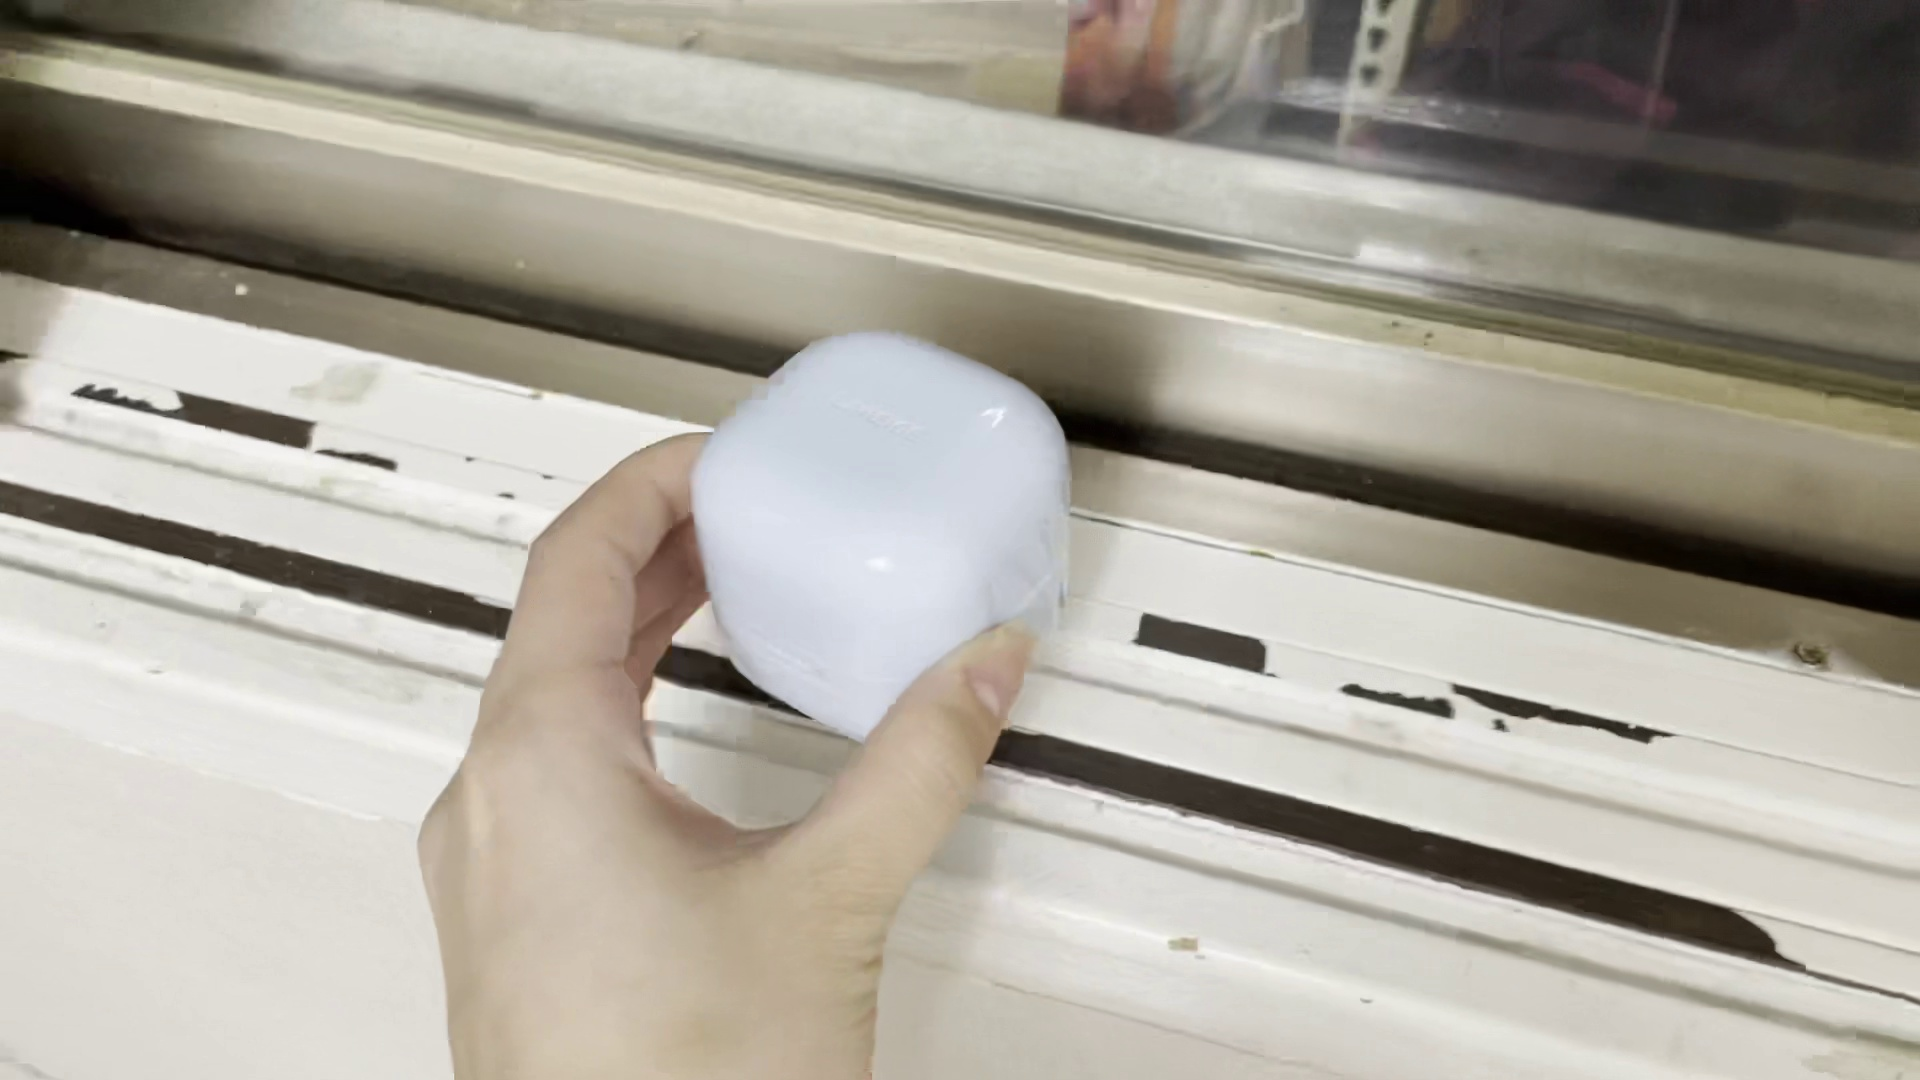cream: (699, 334, 1075, 748)
